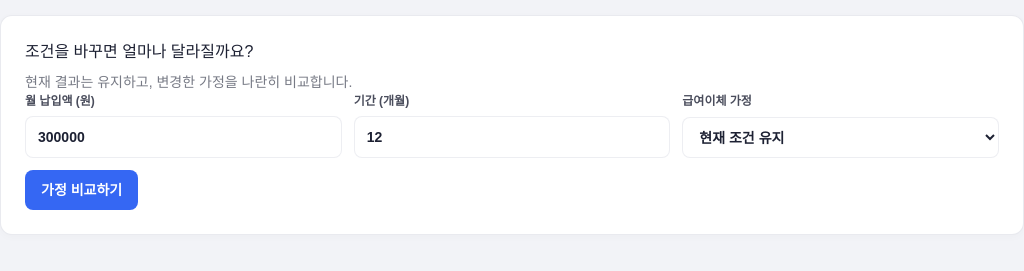
it: VeriFit 사용자 흐름 › 비교 API 오류를 숨기지 않는다
This screenshot has width=1024, height=271.
Click the button "가정 비교하기". click: point(82, 190)
box: [25,170,138,210]
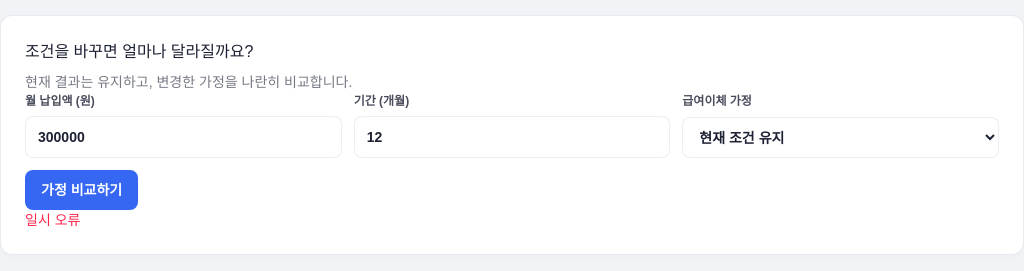
Expected: the message reads "일시 오류", [25,212,80,228]
